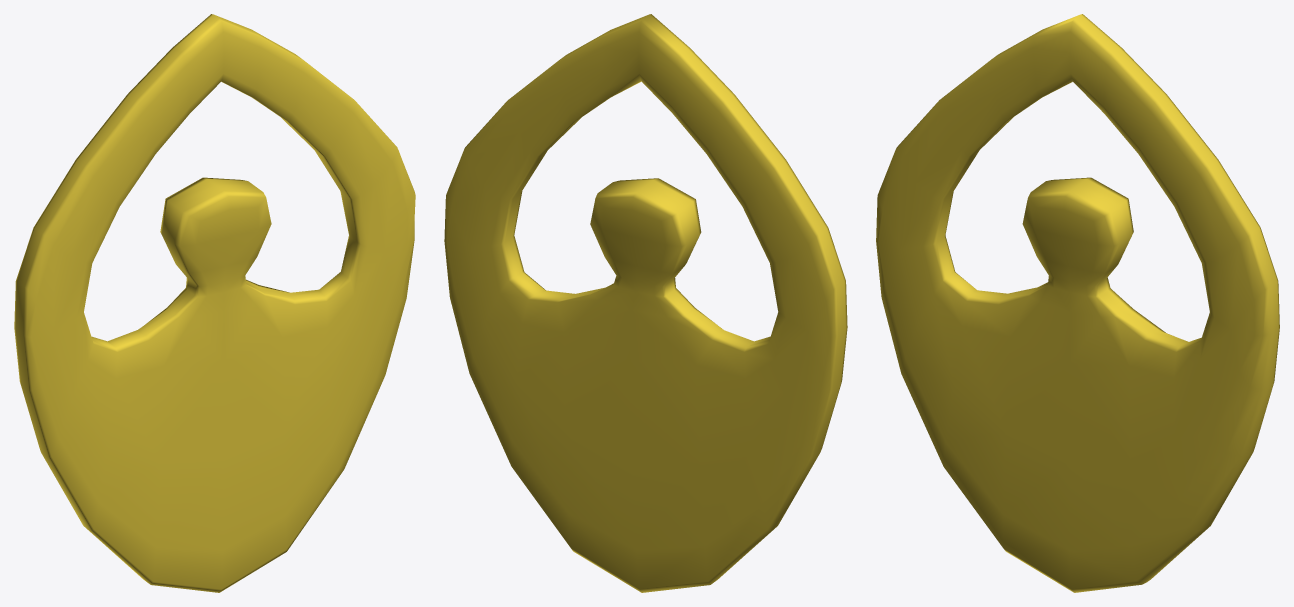
Rendered from Mesh_Emblem1.glb.
The picture shows the model from 3 angles, left to right: view 1: azimuth 30°, elevation 25°; view 2: azimuth 150°, elevation 25°; view 3: azimuth 330°, elevation 25°; orthographic projection.
Parts seen in each view (by area): view 1: Cube.035; view 2: Cube.035; view 3: Cube.035.
Part boxes in pixels (left/top/right/bottom): Cube.035: left=14, top=14, right=415, bottom=592; Cube.035: left=444, top=14, right=847, bottom=592; Cube.035: left=876, top=14, right=1279, bottom=592.
Size of the model in its own units: 8.88 by 12.41 by 1.1.
